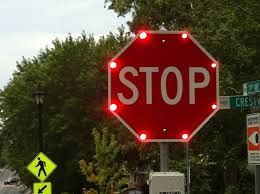stop_sign: (106, 31, 219, 143)
